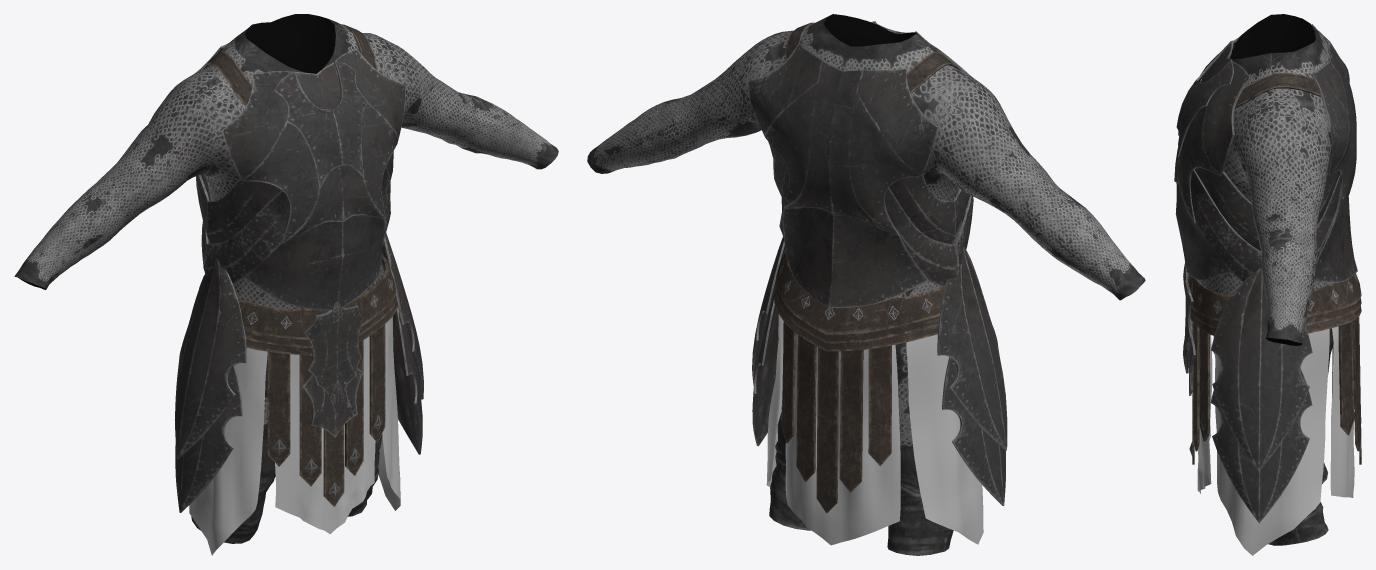
File: sk_uruk_mordor_chainmail_elite_c1.fbx
3 renders of one model, left to right at view 1: azimuth 30°, elevation 25°; view 2: azimuth 150°, elevation 25°; view 3: azimuth 270°, elevation 25°, orthographic. The views are drawn at different scales.
Parts seen in each view (by area): view 1: sk_uruk_mordor_chainmail_elite_c1.5, sk_uruk_mordor_chainmail_elite_c1.0, sk_uruk_mordor_chainmail_elite_c1.2, sk_uruk_mordor_chainmail_elite_c1.4, sk_uruk_mordor_chainmail_elite_c1.1, sk_uruk_mordor_chainmail_elite_c1.3; view 2: sk_uruk_mordor_chainmail_elite_c1.0, sk_uruk_mordor_chainmail_elite_c1.5, sk_uruk_mordor_chainmail_elite_c1.1, sk_uruk_mordor_chainmail_elite_c1.2, sk_uruk_mordor_chainmail_elite_c1.4; view 3: sk_uruk_mordor_chainmail_elite_c1.0, sk_uruk_mordor_chainmail_elite_c1.5, sk_uruk_mordor_chainmail_elite_c1.4, sk_uruk_mordor_chainmail_elite_c1.2, sk_uruk_mordor_chainmail_elite_c1.1, sk_uruk_mordor_chainmail_elite_c1.3.
Boxes of the visible parts, box(x1,y1,x2,y2) form: sk_uruk_mordor_chainmail_elite_c1.5: box(171, 43, 405, 310); sk_uruk_mordor_chainmail_elite_c1.0: box(14, 14, 558, 543); sk_uruk_mordor_chainmail_elite_c1.2: box(189, 317, 400, 555); sk_uruk_mordor_chainmail_elite_c1.4: box(175, 232, 423, 512); sk_uruk_mordor_chainmail_elite_c1.1: box(199, 24, 398, 506); sk_uruk_mordor_chainmail_elite_c1.3: box(302, 301, 363, 437); sk_uruk_mordor_chainmail_elite_c1.0: box(587, 14, 1145, 555); sk_uruk_mordor_chainmail_elite_c1.5: box(748, 21, 973, 307); sk_uruk_mordor_chainmail_elite_c1.1: box(773, 22, 959, 513); sk_uruk_mordor_chainmail_elite_c1.2: box(766, 314, 983, 545); sk_uruk_mordor_chainmail_elite_c1.4: box(752, 237, 1007, 505); sk_uruk_mordor_chainmail_elite_c1.0: box(1199, 14, 1333, 545); sk_uruk_mordor_chainmail_elite_c1.5: box(1174, 24, 1357, 283); sk_uruk_mordor_chainmail_elite_c1.4: box(1210, 268, 1312, 523); sk_uruk_mordor_chainmail_elite_c1.2: box(1197, 326, 1354, 555); sk_uruk_mordor_chainmail_elite_c1.1: box(1189, 72, 1361, 464); sk_uruk_mordor_chainmail_elite_c1.3: box(1183, 263, 1195, 395).
Bounding box in the file's own units: 1.37 × 0.4267 × 1.21.
